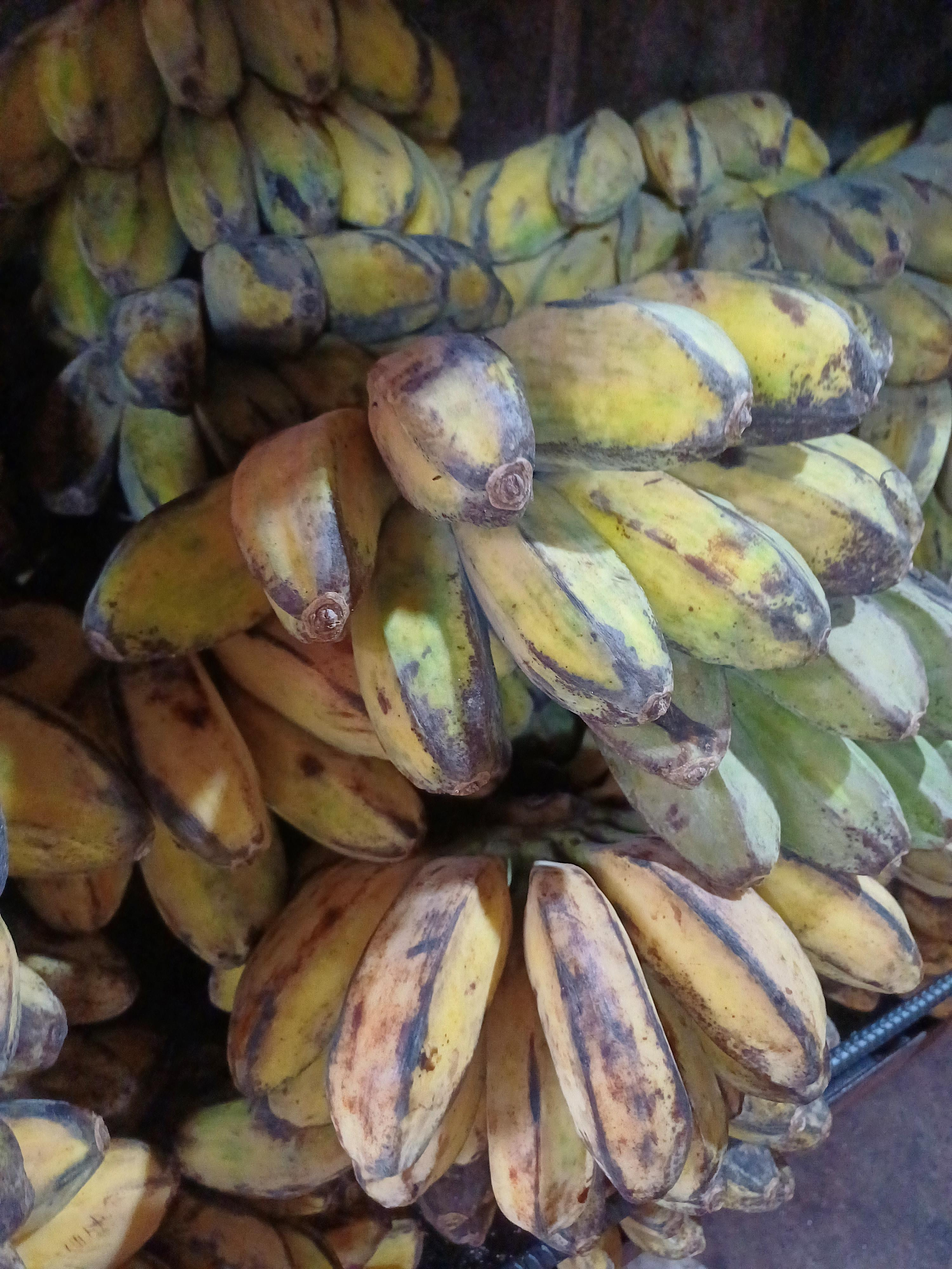ripe: (228, 839, 922, 1240), (0, 603, 426, 1010)
underripe: (83, 273, 922, 796), (0, 0, 461, 341), (33, 229, 512, 519), (589, 569, 952, 890), (452, 91, 829, 312), (691, 142, 952, 384)
